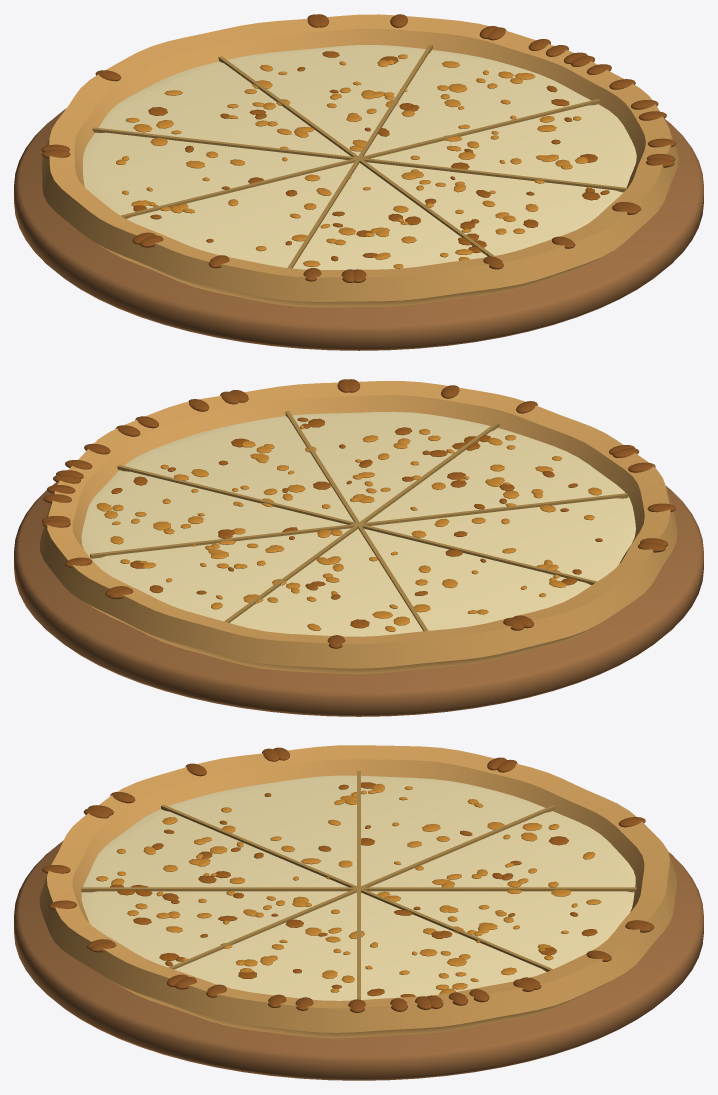
The model's file is pizza_dois_queijos.glb.
3 renders of one model, top to bottom at view 1: azimuth 30°, elevation 25°; view 2: azimuth 150°, elevation 25°; view 3: azimuth 270°, elevation 25°, orthographic.
Parts seen in each view (by area): view 1: pizza_dois_queijos; view 2: pizza_dois_queijos; view 3: pizza_dois_queijos.
Part boxes in pixels (box(x1,y1,x2,y2)): pizza_dois_queijos: box(14, 14, 703, 350); pizza_dois_queijos: box(14, 379, 703, 716); pizza_dois_queijos: box(14, 745, 703, 1080).
Bounding box in the file's own units: 0.38 × 0.038 × 0.38.
